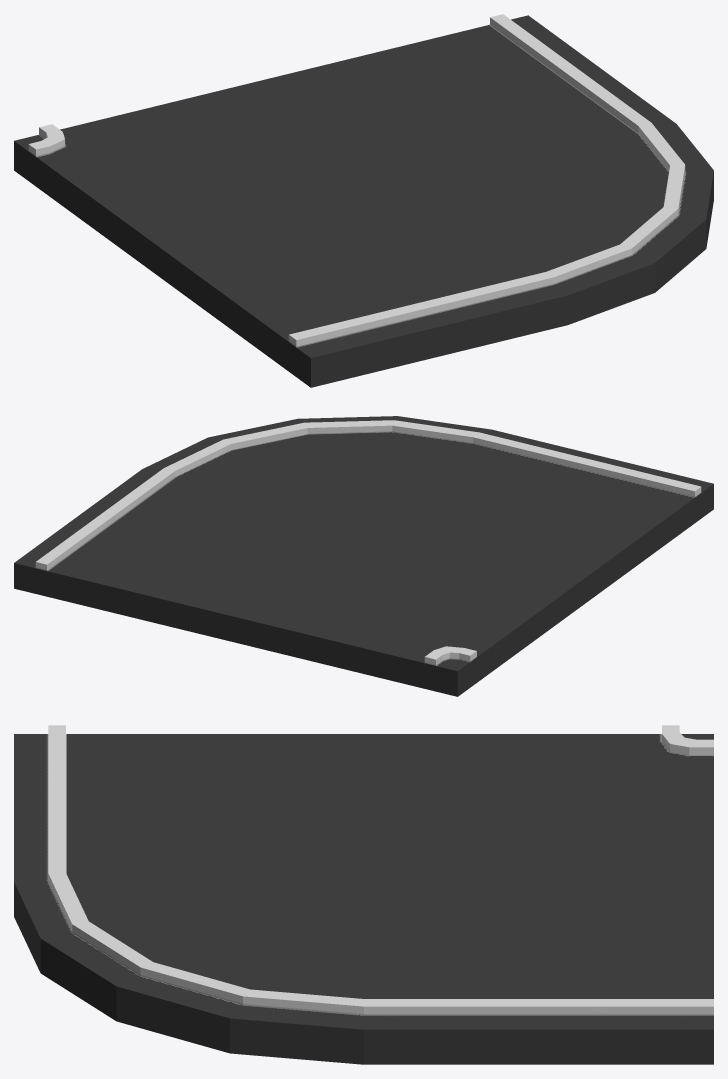
File: 10 Road Turn.fbx
3 views of the same model, one above another, from view 1: azimuth 30°, elevation 25°; view 2: azimuth 150°, elevation 25°; view 3: azimuth 270°, elevation 25° (orthographic). The views are drawn at different scales.
Visible parts, largest first — view 1: 10 Road Turn; view 2: 10 Road Turn; view 3: 10 Road Turn.
Part boxes in pixels (bbox=[...]): 10 Road Turn: bbox=[14, 14, 713, 387]; 10 Road Turn: bbox=[14, 416, 713, 696]; 10 Road Turn: bbox=[14, 725, 713, 1064].
Bounding box in the file's own units: 100 × 6.89 × 100.
1 material, 1 textured.
